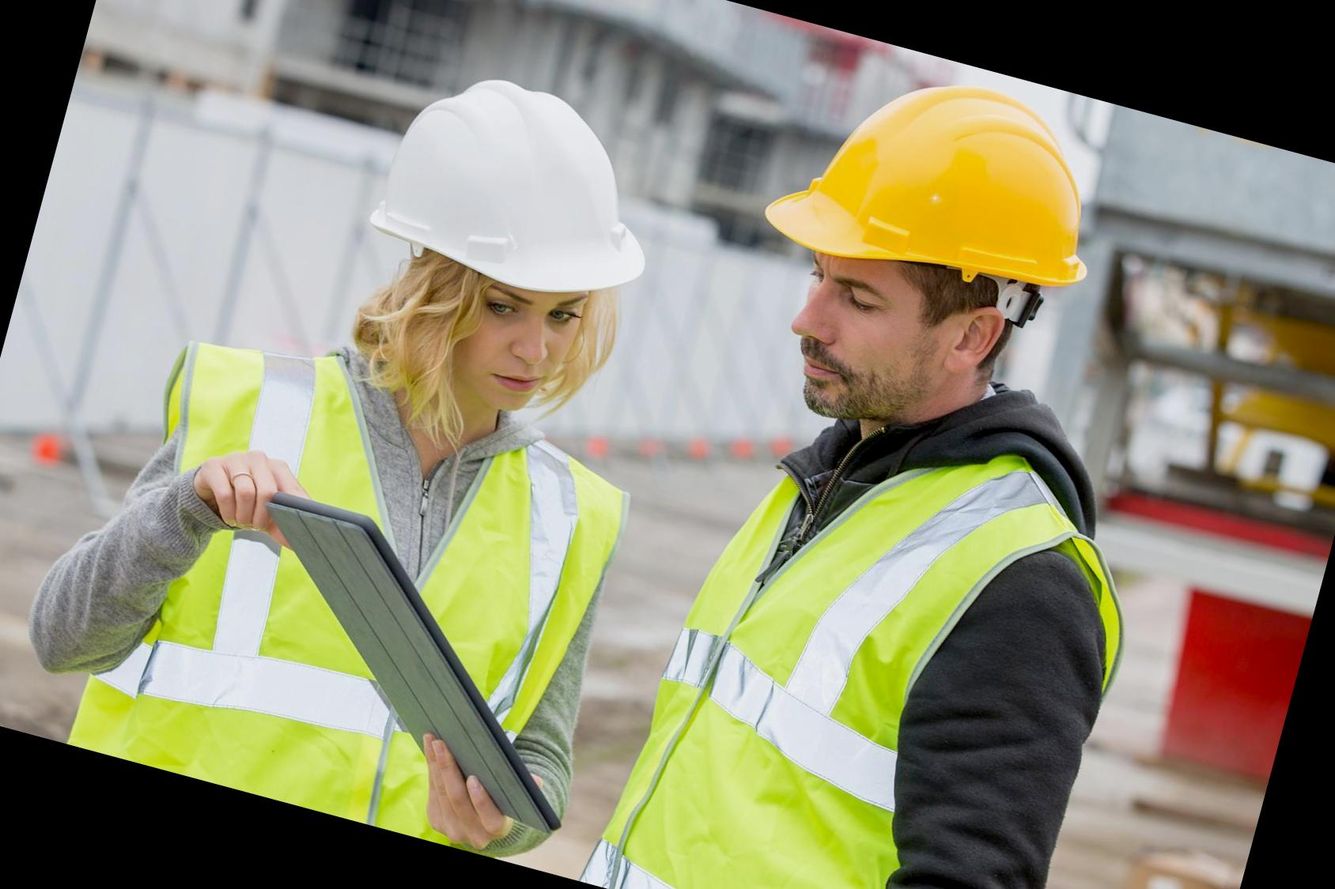helmet: (742, 36, 1135, 352), (358, 44, 702, 327)
person: (80, 2, 741, 868), (582, 45, 1239, 889)
